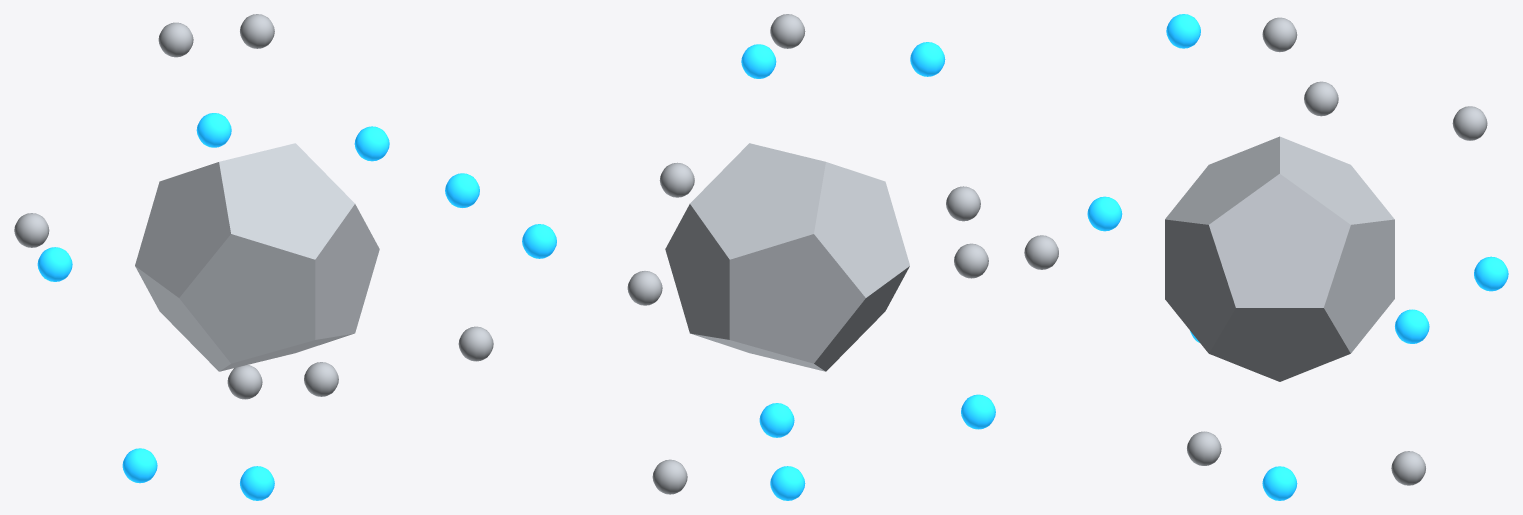
Rendered from uika-ti-keris-loop.glb.
3 views of the same model, side by side, from view 1: azimuth 30°, elevation 25°; view 2: azimuth 150°, elevation 25°; view 3: azimuth 270°, elevation 25° (orthographic).
Visible parts, largest first — view 1: KERIS_Knowledge_Core, KERIS_Synapse_2, KERIS_Synapse_8, KERIS_Synapse_10, KERIS_Synapse_5, KERIS_Synapse_1, KERIS_Synapse_12, KERIS_Synapse_3, KERIS_Synapse_6, KERIS_Synapse_9, KERIS_Synapse_4, KERIS_Synapse_7 (+1 smaller); view 2: KERIS_Knowledge_Core, KERIS_Synapse_10, KERIS_Synapse_5, KERIS_Synapse_7, KERIS_Synapse_1, KERIS_Synapse_2, KERIS_Synapse_9, KERIS_Synapse_12, KERIS_Synapse_4, KERIS_Synapse_8, KERIS_Synapse_11, KERIS_Synapse_3 (+1 smaller); view 3: KERIS_Knowledge_Core, KERIS_Synapse_3, KERIS_Synapse_7, KERIS_Synapse_11, KERIS_Synapse_2, KERIS_Synapse_12, KERIS_Synapse_4, KERIS_Synapse_8, KERIS_Synapse_1, KERIS_Synapse_5, KERIS_Synapse_6, KERIS_Synapse_9.
Boxes of the visible parts, x1,y1,x2,y2 form: KERIS_Knowledge_Core: (135, 143, 379, 371); KERIS_Synapse_2: (196, 113, 231, 147); KERIS_Synapse_8: (37, 247, 72, 281); KERIS_Synapse_10: (122, 448, 157, 483); KERIS_Synapse_5: (14, 213, 49, 247); KERIS_Synapse_1: (240, 14, 274, 48); KERIS_Synapse_12: (240, 466, 274, 500); KERIS_Synapse_3: (158, 22, 193, 57); KERIS_Synapse_6: (354, 126, 389, 161); KERIS_Synapse_9: (458, 326, 493, 361); KERIS_Synapse_4: (445, 173, 479, 207); KERIS_Synapse_7: (304, 362, 338, 396); KERIS_Knowledge_Core: (665, 143, 909, 371); KERIS_Synapse_10: (961, 394, 995, 429); KERIS_Synapse_5: (954, 243, 988, 278); KERIS_Synapse_7: (946, 186, 980, 221); KERIS_Synapse_1: (770, 14, 805, 48); KERIS_Synapse_2: (910, 42, 945, 76); KERIS_Synapse_9: (627, 271, 662, 305); KERIS_Synapse_12: (770, 466, 805, 500); KERIS_Synapse_4: (741, 44, 776, 78); KERIS_Synapse_8: (759, 403, 794, 437); KERIS_Synapse_11: (652, 459, 687, 494); KERIS_Synapse_3: (659, 162, 694, 197); KERIS_Knowledge_Core: (1165, 136, 1394, 381); KERIS_Synapse_3: (1452, 106, 1487, 140); KERIS_Synapse_7: (1024, 235, 1058, 269); KERIS_Synapse_11: (1391, 451, 1425, 485); KERIS_Synapse_2: (1166, 14, 1200, 48); KERIS_Synapse_12: (1262, 466, 1297, 500); KERIS_Synapse_4: (1087, 196, 1122, 231); KERIS_Synapse_8: (1474, 256, 1508, 291); KERIS_Synapse_1: (1262, 17, 1297, 52); KERIS_Synapse_5: (1304, 81, 1338, 116); KERIS_Synapse_6: (1395, 309, 1429, 343); KERIS_Synapse_9: (1187, 431, 1221, 465).
Size of the model in its own units: 3.57 by 3.96 by 3.62.
